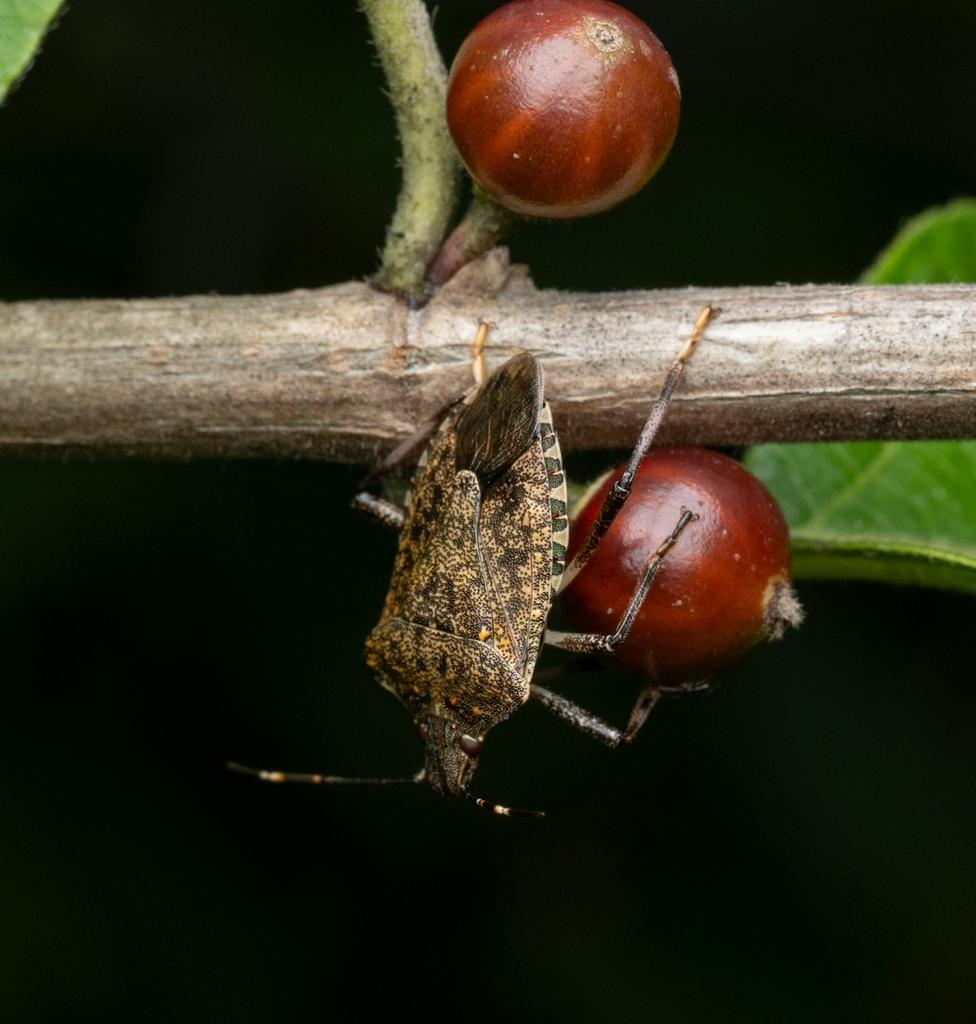stink_bugs: (206, 235, 746, 867)
